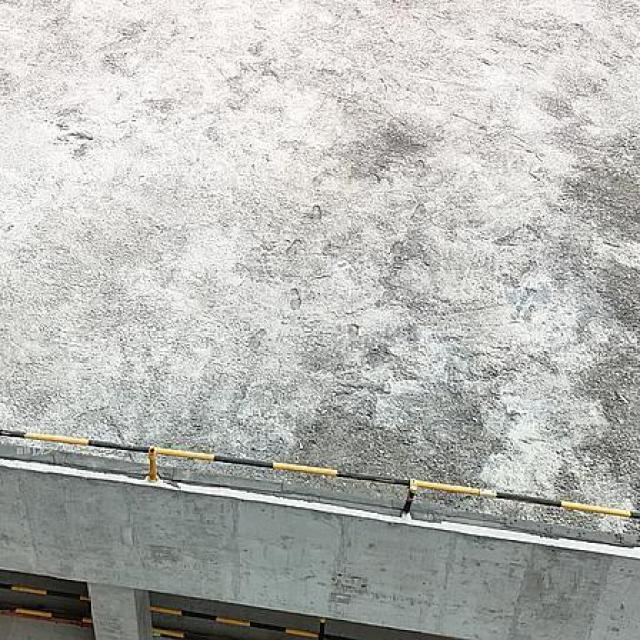edge_guardrail: (0, 426, 640, 525), (148, 603, 358, 640), (0, 582, 93, 624)
